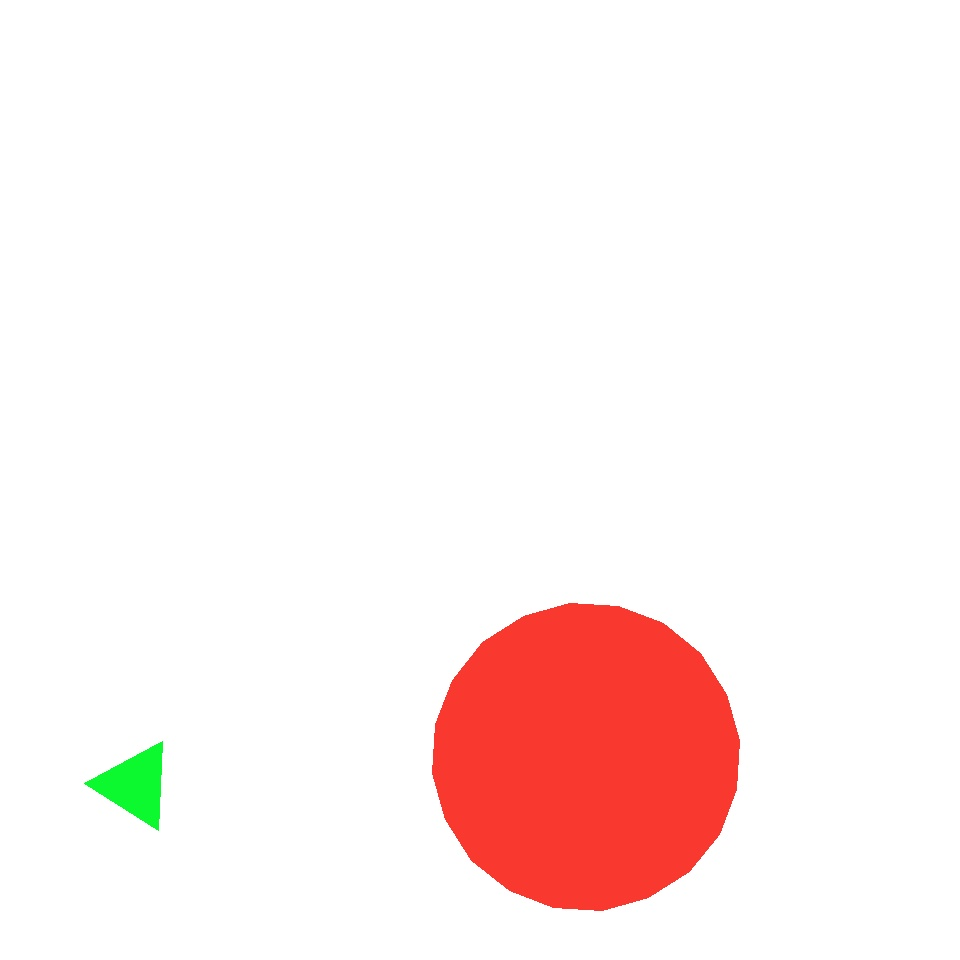circle: (648, 318, 918, 600), (216, 337, 382, 490), (96, 740, 174, 830)
triangle: (433, 604, 740, 910), (74, 101, 321, 347)
